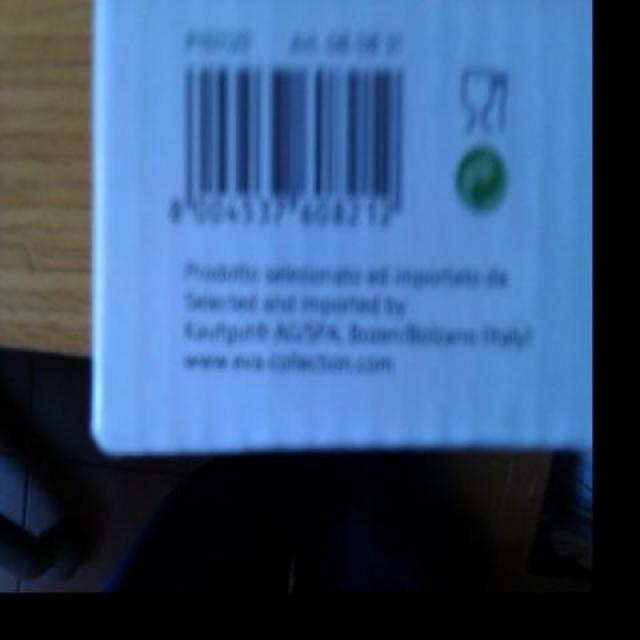Barcode: (153, 52, 427, 247)
